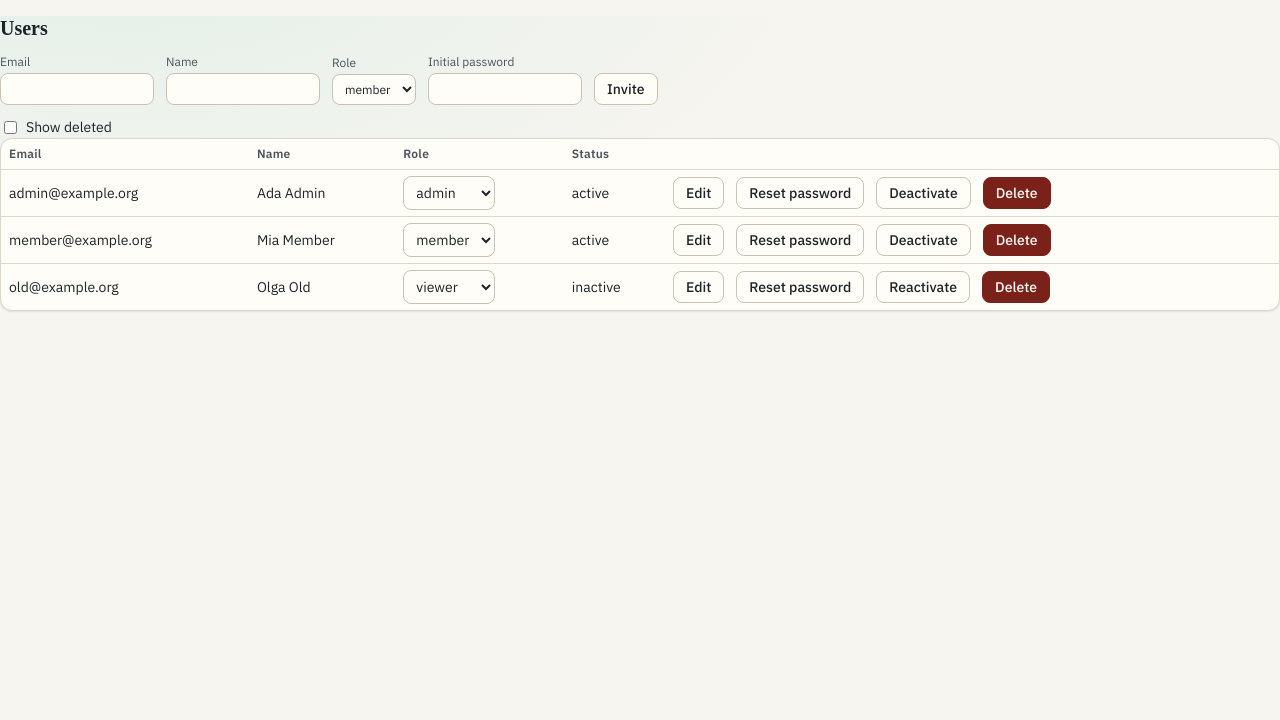
Scenario: UsersPage › shows a duplicate email from the edit dialog
Click the button with aria-label "Edit member@example.org" at (699, 240), box [673,224,724,256]
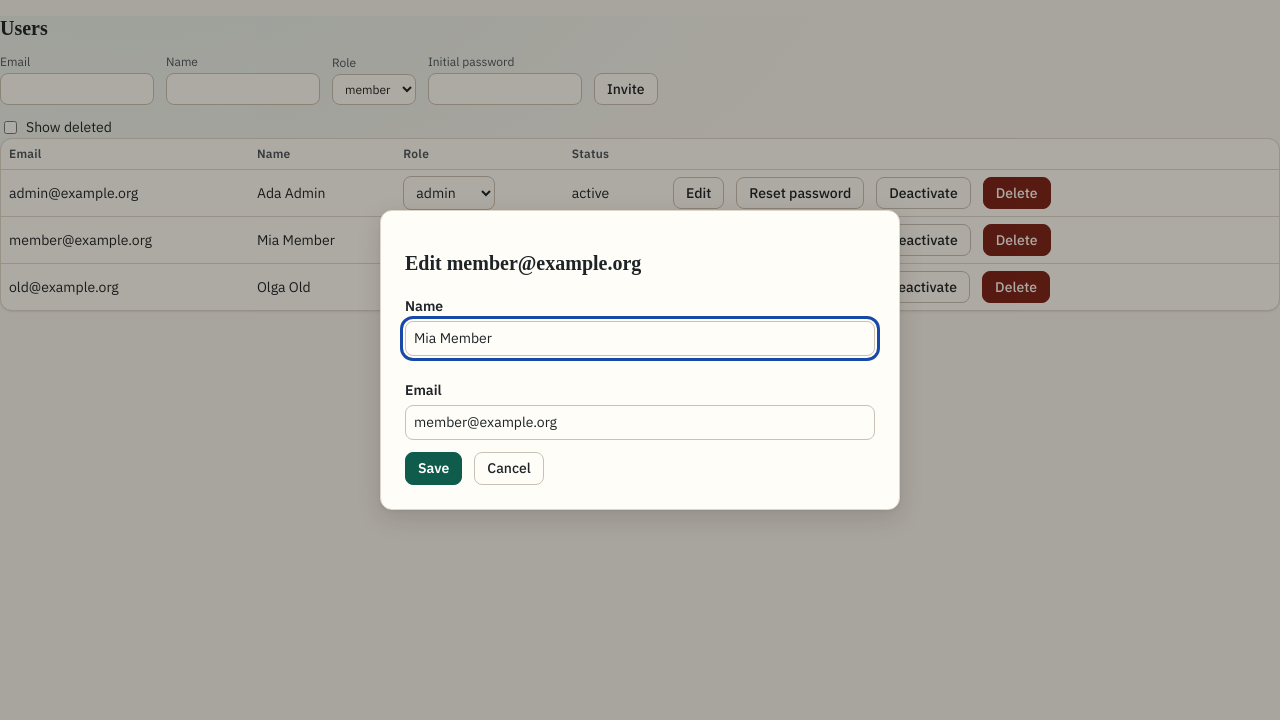
Replace the text in the field labelled "Email" with "admin@example.org" at (640, 423), box [405,405,875,440]
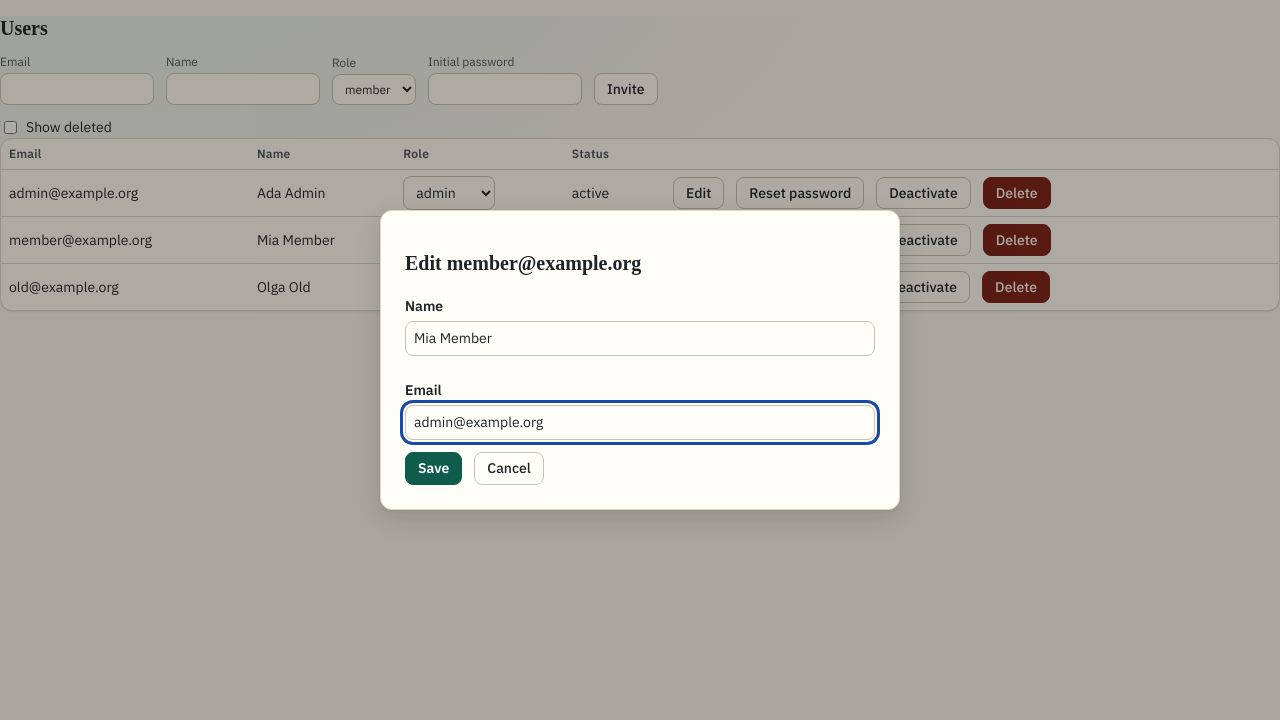
Click the button "Save" at (434, 468), box [405,452,462,485]
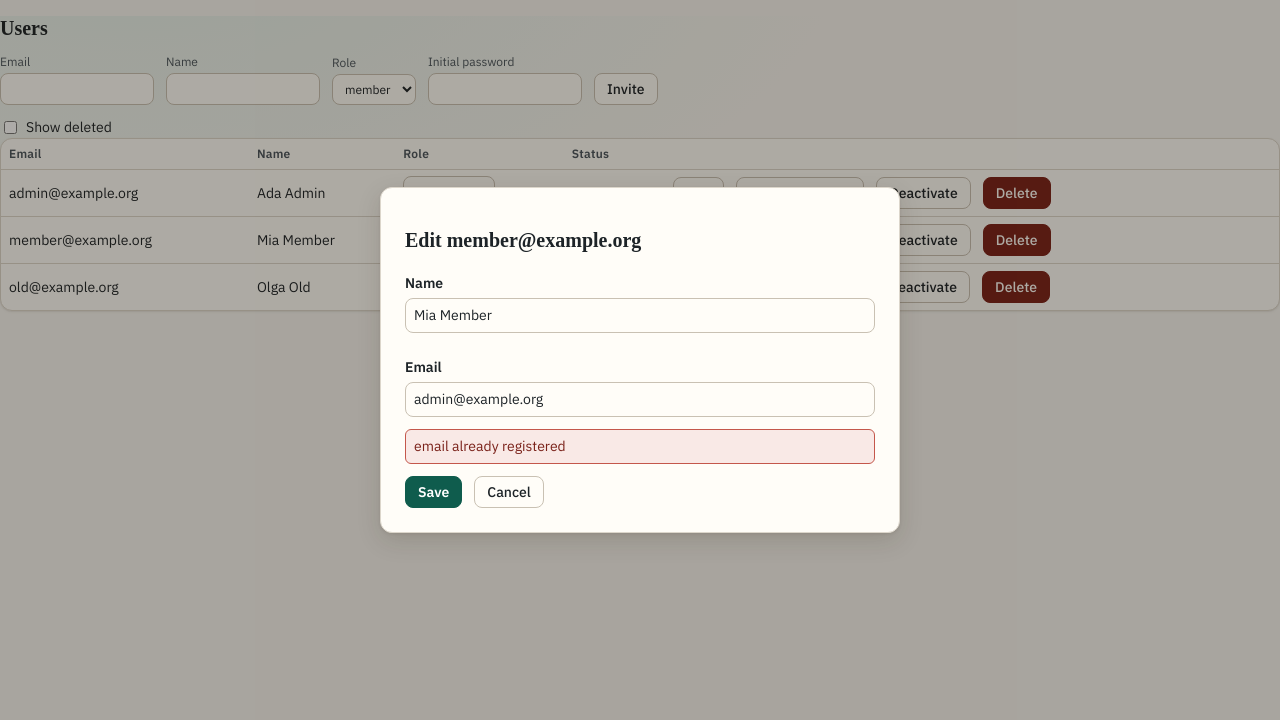
Result: the message shows "already registered" at [414,437,566,455]
